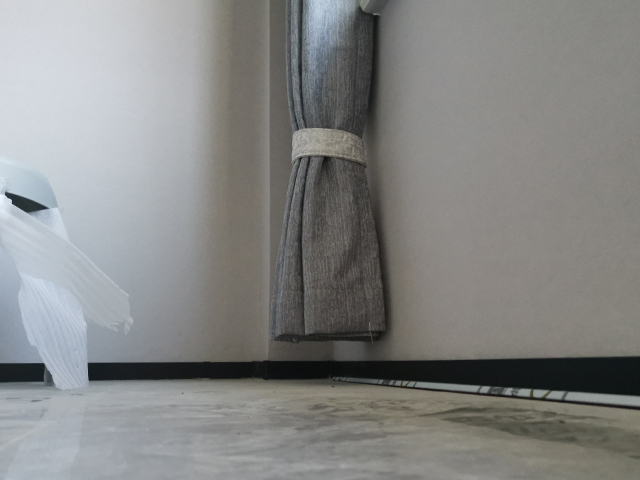curtain: (268, 1, 393, 343)
stool: (1, 160, 83, 391)
